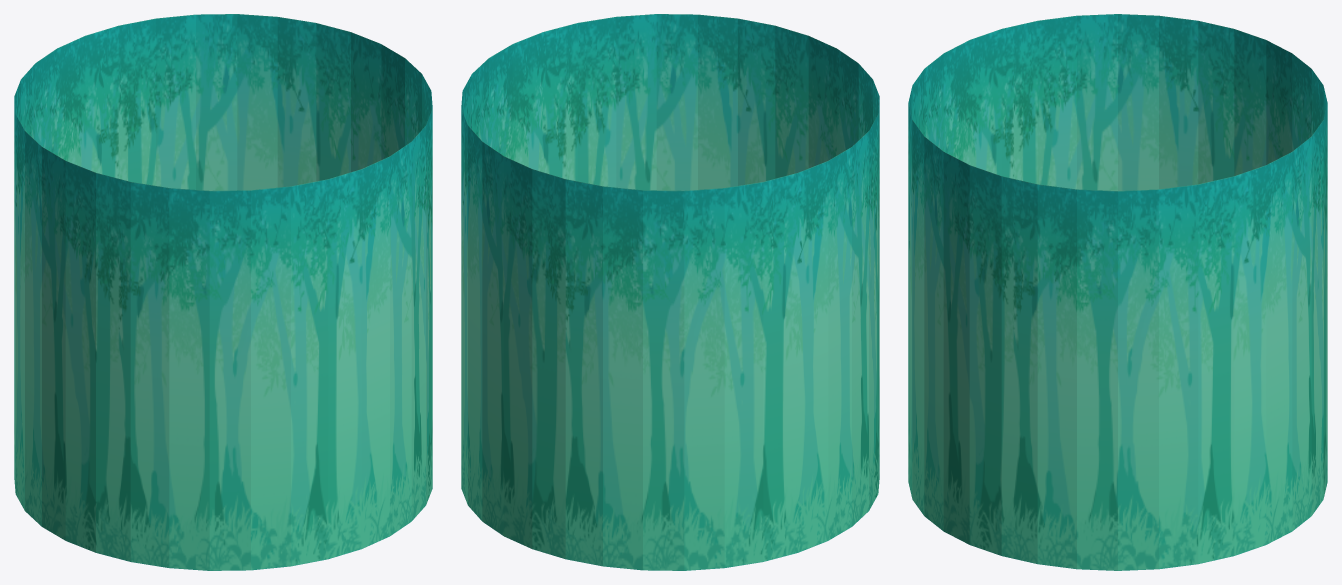
File: Woods.glb
The picture shows the model from 3 angles, left to right: view 1: azimuth 30°, elevation 25°; view 2: azimuth 150°, elevation 25°; view 3: azimuth 270°, elevation 25°; orthographic projection.
Parts seen in each view (by area): view 1: Woods; view 2: Woods; view 3: Woods.
Part boxes in pixels (<box>): Woods: <box>14,14,432,570</box>; Woods: <box>461,14,879,570</box>; Woods: <box>908,14,1327,570</box>.
Size of the model in its own units: 1 by 1 by 1.
Materials: 1 (1 with a texture image).
